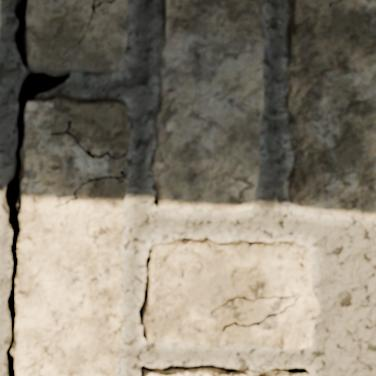brick: (12, 97, 129, 375), (152, 0, 263, 212), (287, 0, 375, 220), (143, 239, 318, 349), (27, 0, 128, 72), (144, 368, 230, 375), (234, 370, 311, 375)
crack: (2, 0, 70, 375), (49, 120, 128, 159), (52, 168, 125, 208), (328, 0, 343, 8), (206, 371, 216, 375)
